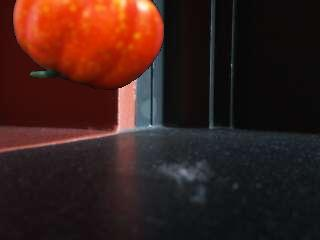Pumpkin: (14, 0, 164, 91)
